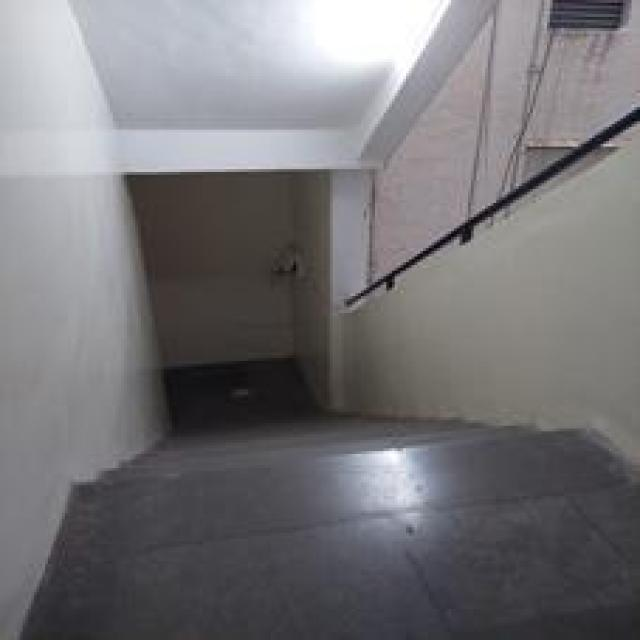downstair: (159, 396, 489, 517)
